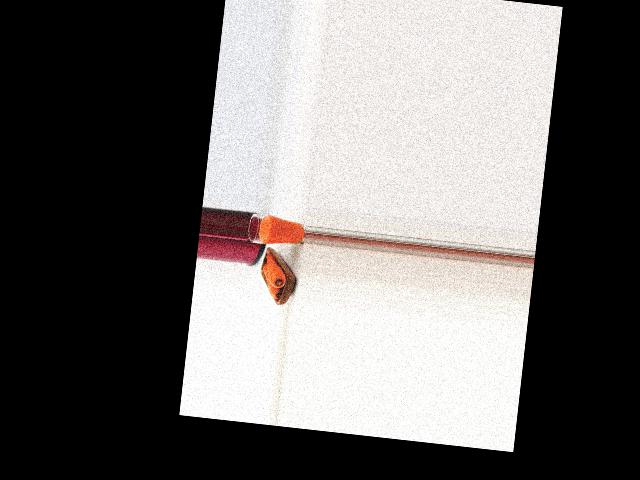carrot: (260, 266, 286, 301)
